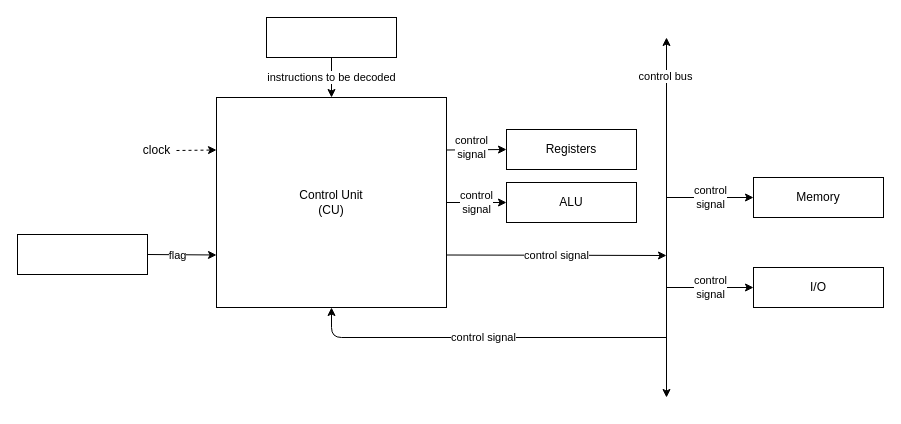
Image size: 901x424. Some labels were removed from this diagram. The box of each missing label's shape, as (x1, y1, x2, y2) in pixels:
Flag register: (16, 234, 148, 274)
instruction register: (266, 16, 396, 58)
